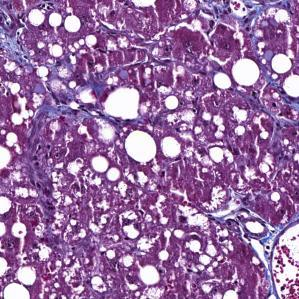fibrosis: (0, 10, 36, 65)
